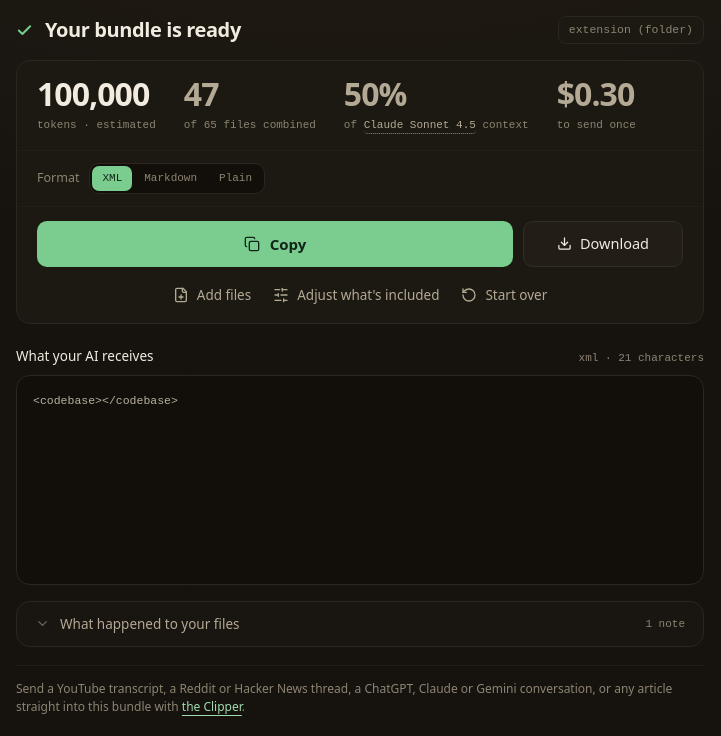
Test case: the door on the ledger › says a dropped root the defaults name was read by choice
Click the button "What happened to your files 1 note" at (150, 624), box [17,602,703,646]
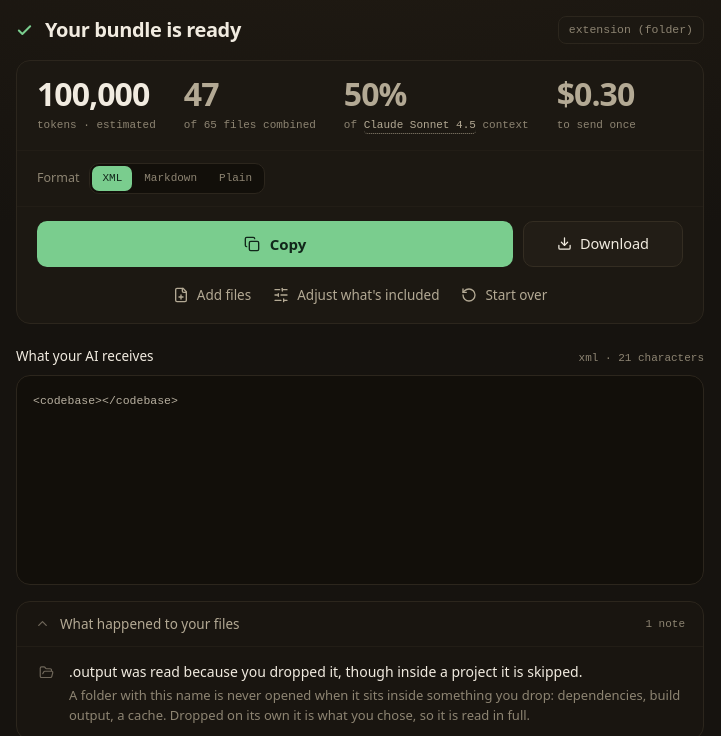
Expected: the text ".output was read because you dropped it, though inside a project it is skipped." is shown, [69,662,582,681]
